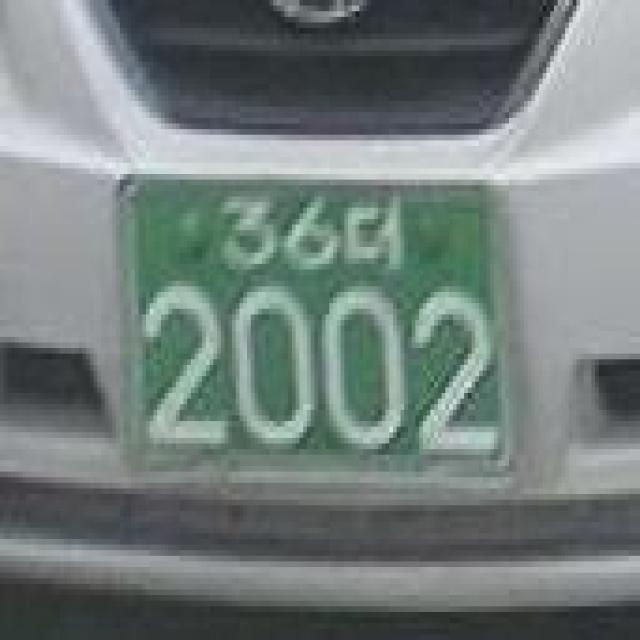illegal_plate: (99, 160, 536, 506)
